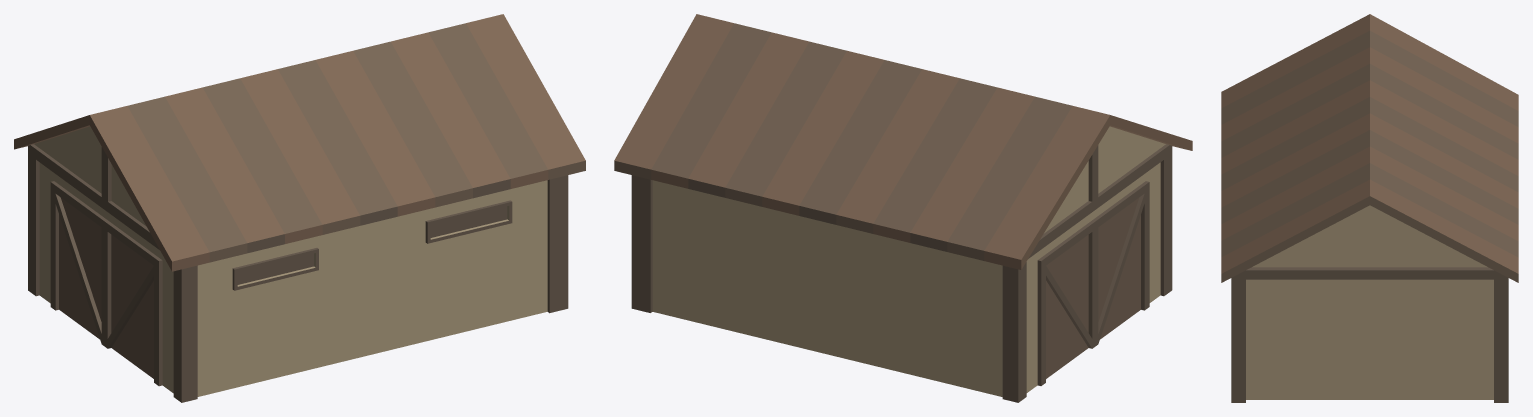
File: stable.fbx
3 renders of one model, left to right at view 1: azimuth 30°, elevation 25°; view 2: azimuth 150°, elevation 25°; view 3: azimuth 270°, elevation 25°, orthographic. The views are drawn at different scales.
Parts seen in each view (by area): view 1: stable; view 2: stable; view 3: stable.
Boxes of the visible parts, <box> form: stable: <box>14,14,585,402</box>; stable: <box>614,14,1192,402</box>; stable: <box>1221,14,1518,402</box>.
Bounding box in the file's own units: 10.97 × 7.56 × 5.96.
